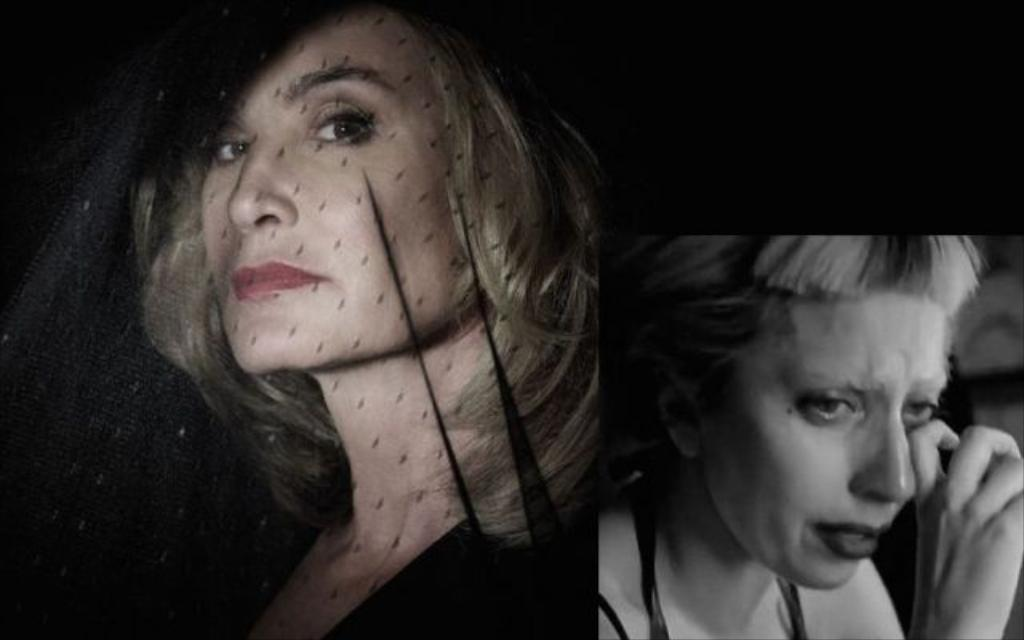face: (200, 15, 460, 360)
